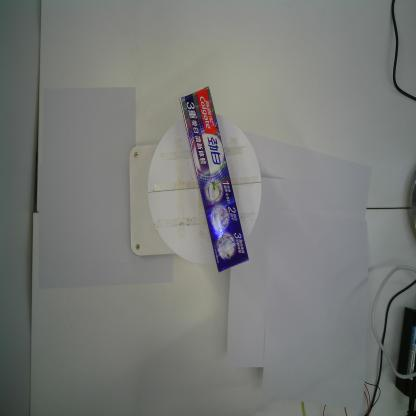Personal Hygiene: (178, 84, 250, 274)
